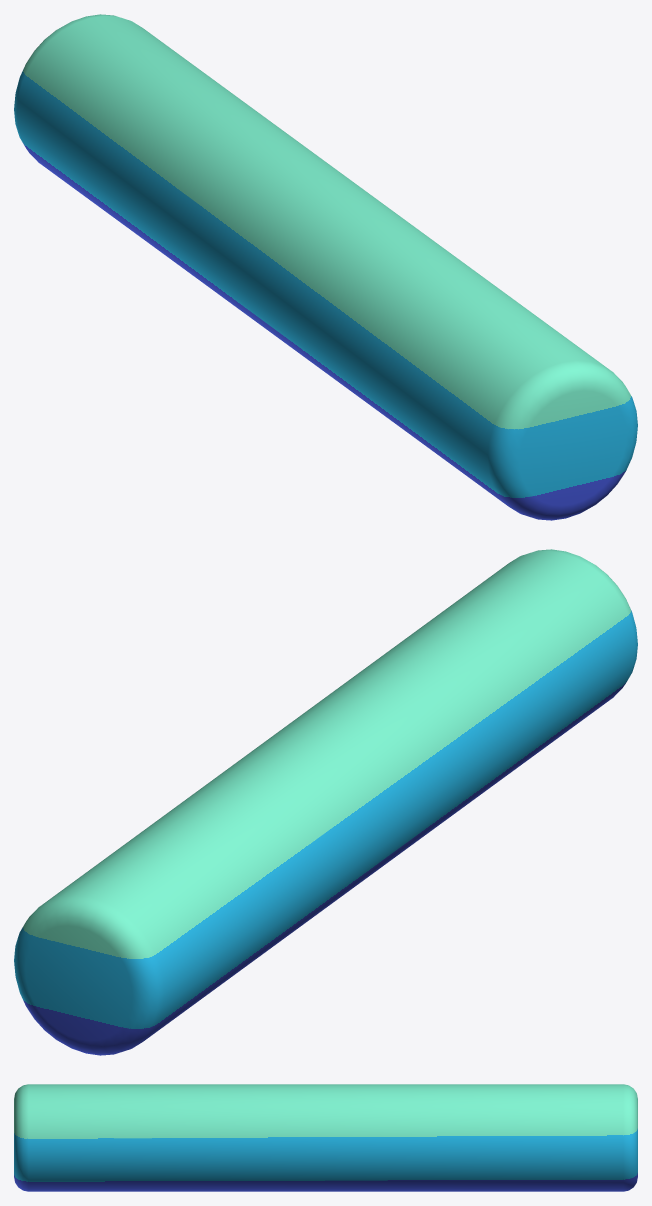
Rendered from log1.fbx.
3 views of the same model, one above another, from view 1: azimuth 30°, elevation 25°; view 2: azimuth 150°, elevation 25°; view 3: azimuth 270°, elevation 25° (orthographic). The views are drawn at different scales.
Parts seen in each view (by area): view 1: Cylinder; view 2: Cylinder; view 3: Cylinder.
Part boxes in pixels (x1,y1,x2,y2): Cylinder: (14, 14, 637, 520); Cylinder: (14, 549, 637, 1055); Cylinder: (14, 1084, 637, 1191).
Bounding box in the file's own units: 200 × 200 × 1160.
1 material, 1 textured.
